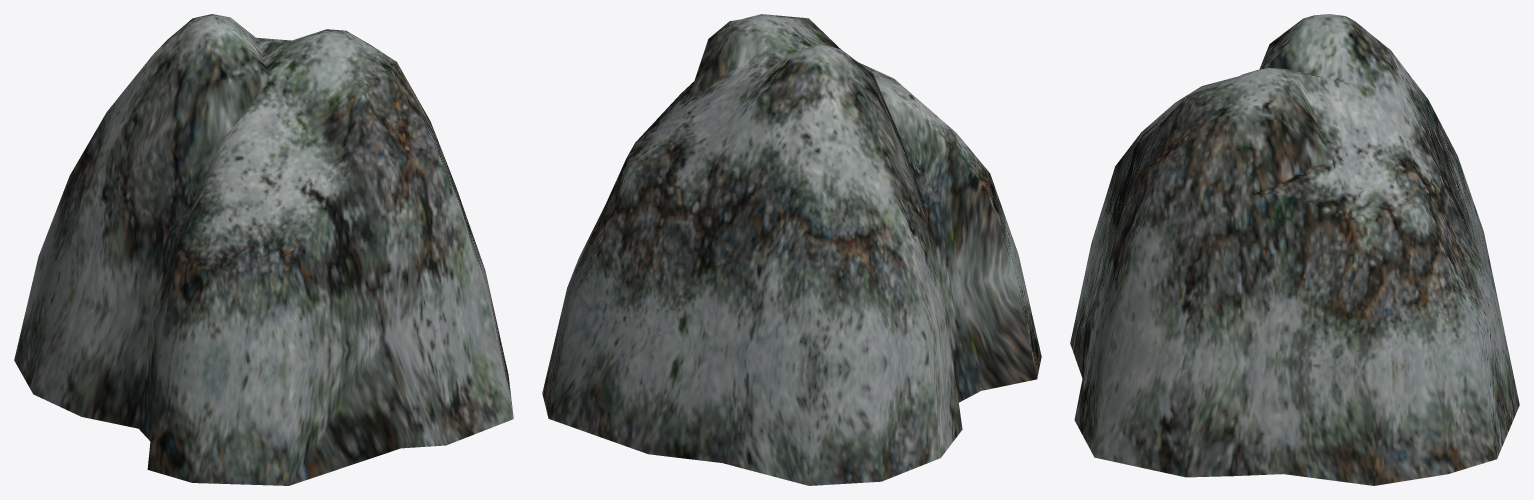
The model's file is big_stone.dae.
3 renders of one model, left to right at view 1: azimuth 30°, elevation 25°; view 2: azimuth 150°, elevation 25°; view 3: azimuth 270°, elevation 25°, orthographic.
Visible parts, largest first — view 1: Untitled; view 2: Untitled; view 3: Untitled.
Part boxes in pixels (x1,y1,x2,y2): Untitled: (14,14,513,485); Untitled: (542,14,1041,485); Untitled: (1070,14,1519,485).
Size of the model in its own units: 6.45 by 6.47 by 5.63.
1 material, 1 textured.
